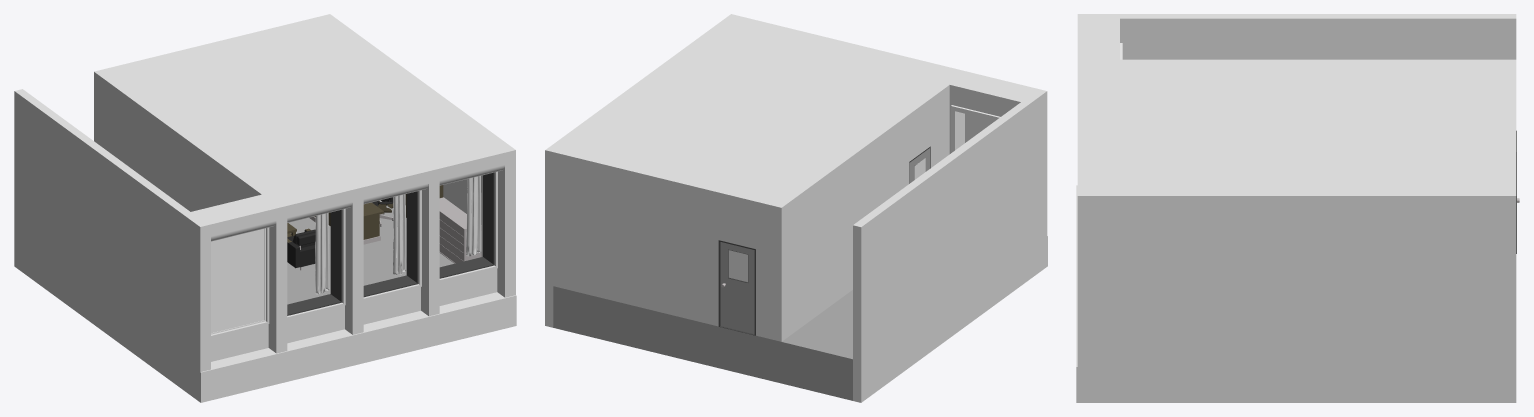
The model's file is building_office_room_window.glb.
3 renders of one model, left to right at view 1: azimuth 30°, elevation 25°; view 2: azimuth 150°, elevation 25°; view 3: azimuth 270°, elevation 25°, orthographic. The views are drawn at different scales.
Parts seen in each view (by area): view 1: Object_6; view 2: Object_6; view 3: Object_6.
Part boxes in pixels (x1,y1,x2,y2): Object_6: (14,14,516,402); Object_6: (545,14,1047,402); Object_6: (1076,14,1519,402).
Bounding box in the file's own units: 7.65 × 4.06 × 7.88.
1 material, 1 textured.
